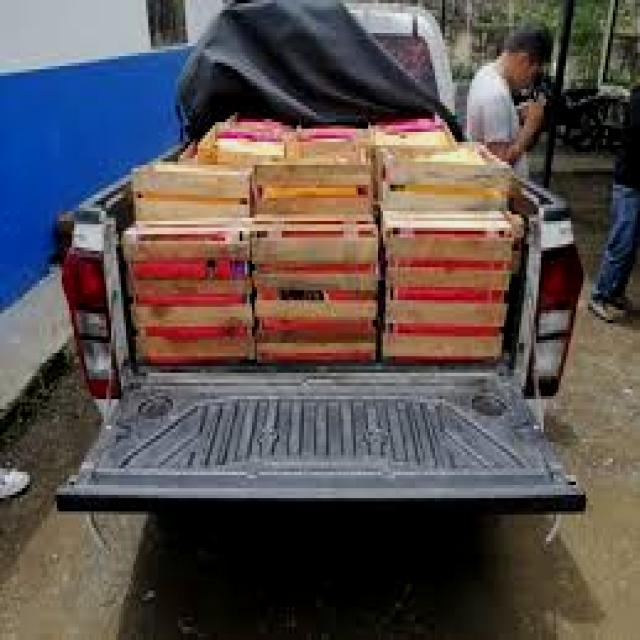CMT: (51, 0, 591, 542)
